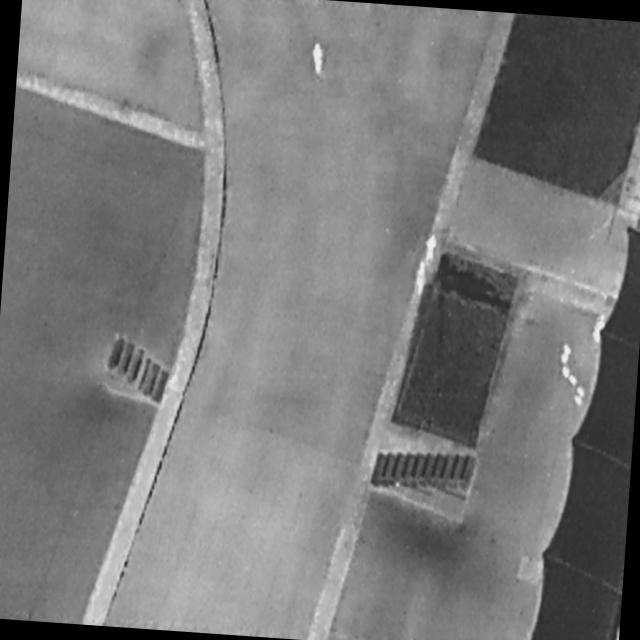person: (308, 38, 329, 78), (590, 311, 608, 346), (415, 258, 430, 298), (426, 232, 440, 262)
